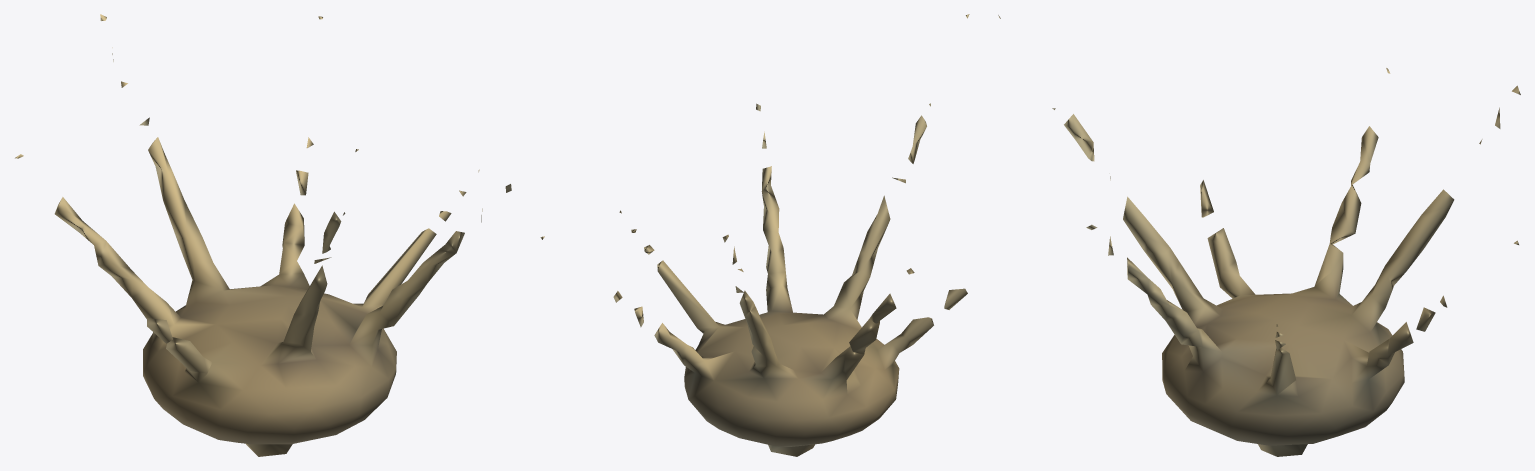
The model's file is env_p_shrub.glb.
The picture shows the model from 3 angles, left to right: view 1: azimuth 30°, elevation 25°; view 2: azimuth 150°, elevation 25°; view 3: azimuth 270°, elevation 25°; orthographic projection. The views are drawn at different scales.
Visible parts, largest first — view 1: geometry_0; view 2: geometry_0; view 3: geometry_0.
Part boxes in pixels (bbox=[...]): geometry_0: bbox=[15, 14, 511, 456]; geometry_0: bbox=[540, 14, 969, 456]; geometry_0: bbox=[998, 15, 1520, 456].
Bounding box in the file's own units: 0.7319 × 0.724 × 0.8478.
